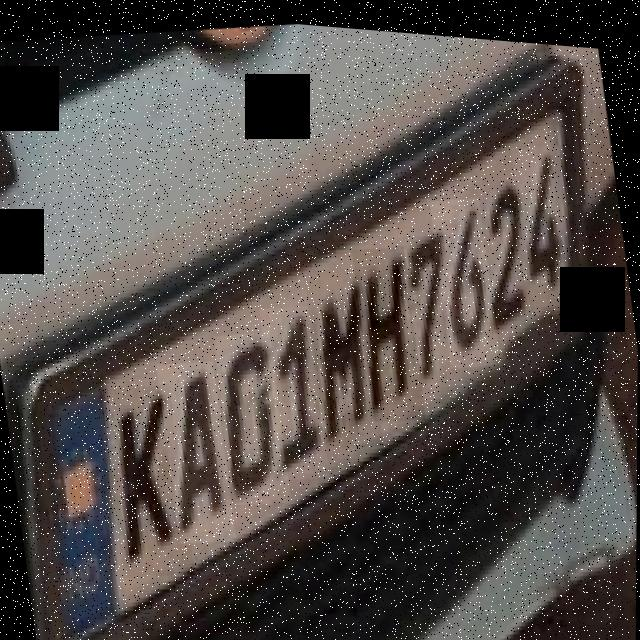0: (220, 330, 282, 501)
1: (273, 302, 326, 474)
4: (522, 138, 567, 297)
6: (448, 192, 493, 361)
7: (406, 214, 448, 381)
A: (175, 358, 232, 541)
H: (365, 241, 415, 415)
K: (116, 383, 176, 575)
M: (315, 263, 373, 443)
